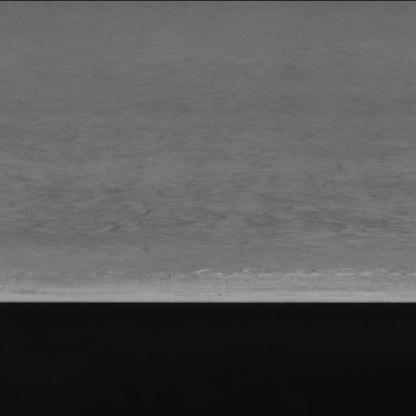silk_spot: (6, 107, 406, 251)
